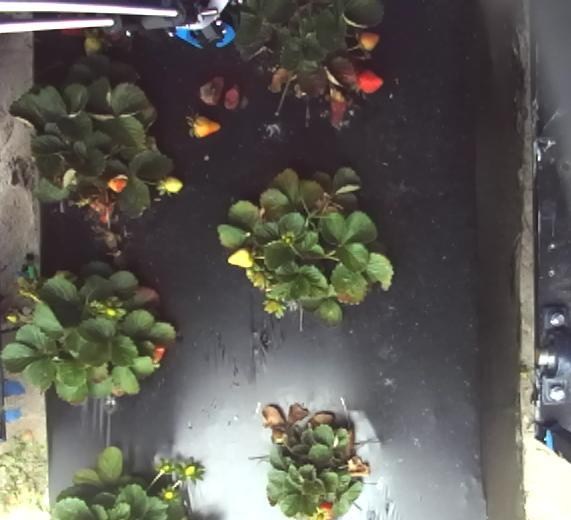leaves: (184, 110, 221, 141), (224, 236, 256, 270), (352, 23, 384, 54), (154, 173, 186, 198), (101, 169, 131, 192), (155, 173, 184, 196), (141, 338, 165, 365), (105, 171, 129, 194), (153, 339, 169, 372)
mature: (264, 394, 304, 442), (77, 196, 117, 233), (278, 69, 322, 100), (163, 454, 207, 483), (344, 441, 371, 483), (325, 95, 355, 131), (351, 68, 388, 95), (220, 81, 242, 111), (315, 496, 340, 518)
